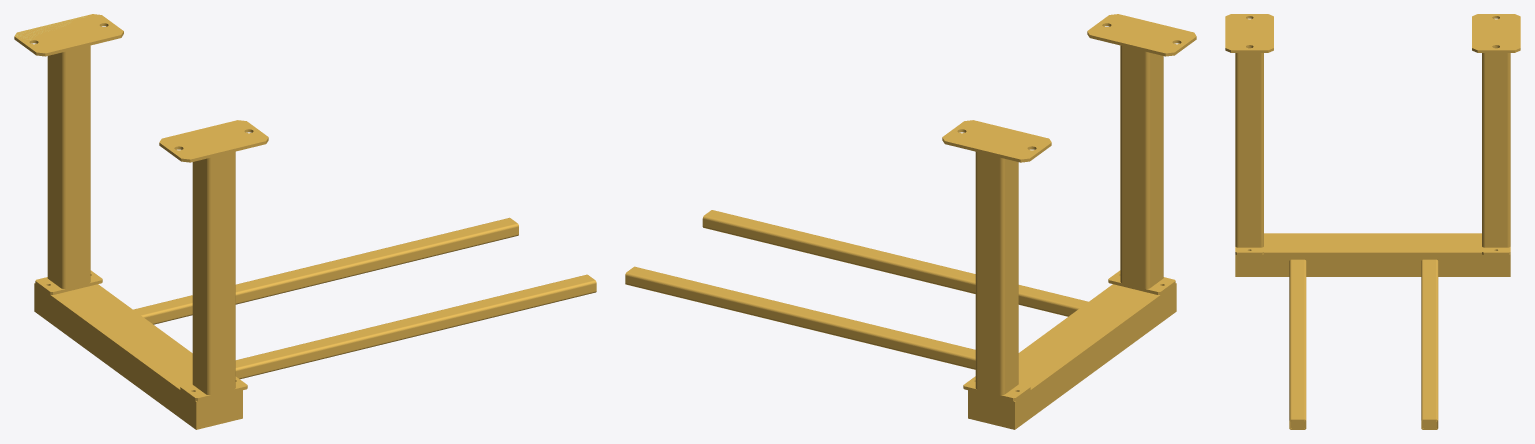
Rendered from frame2.dae.
3 views of the same model, side by side, from view 1: azimuth 30°, elevation 25°; view 2: azimuth 150°, elevation 25°; view 3: azimuth 270°, elevation 25° (orthographic). The views are drawn at different scales.
Visible parts, largest first — view 1: 支架单个2.001; view 2: 支架单个2.001; view 3: 支架单个2.001.
Boxes of the visible parts, left/top/right/bottom form: 支架单个2.001: left=14, top=14, right=596, bottom=429; 支架单个2.001: left=625, top=14, right=1196, bottom=429; 支架单个2.001: left=1225, top=14, right=1520, bottom=429.
Size of the model in its own units: 770 by 515 by 454.
